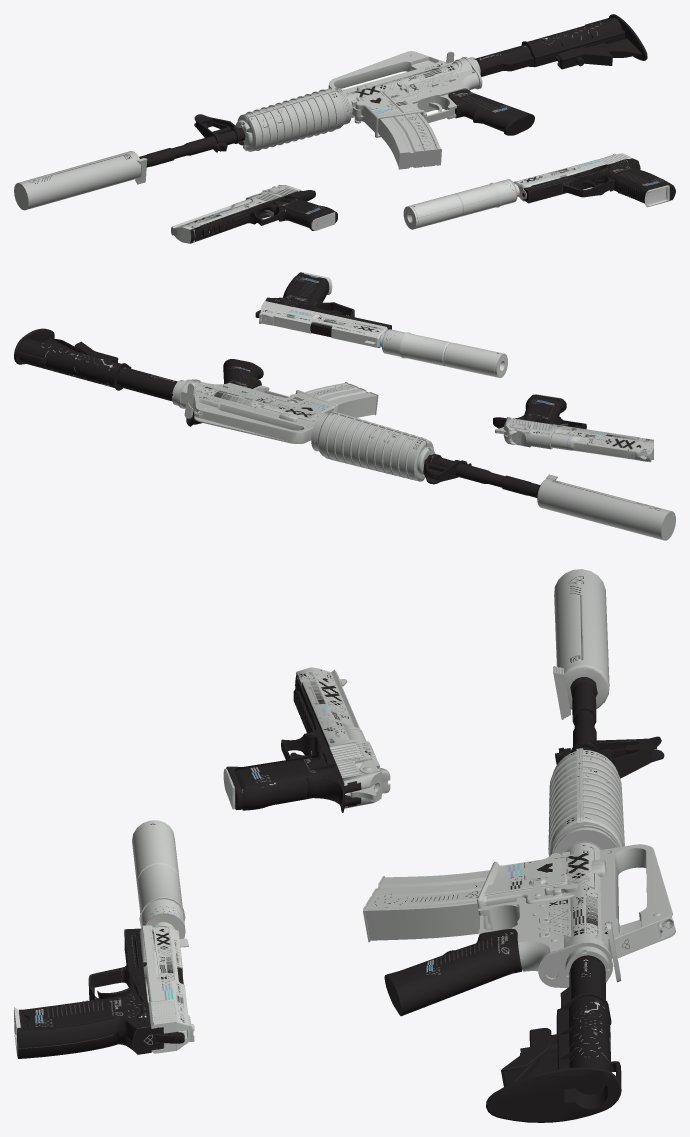
File: armes-printstream.glb
3 views of the same model, one above another, from view 1: azimuth 30°, elevation 25°; view 2: azimuth 150°, elevation 25°; view 3: azimuth 270°, elevation 25° (orthographic). The views are drawn at different scales.
Visible parts, largest first — view 1: m4a1_s_1, usp-s_2, desert_eagle_0; view 2: m4a1_s_1, usp-s_2, desert_eagle_0; view 3: m4a1_s_1, usp-s_2, desert_eagle_0.
Boxes of the visible parts, x1=… form: m4a1_s_1: x1=14, y1=14, x2=647, y2=210; usp-s_2: x1=403, y1=153, x2=675, y2=229; desert_eagle_0: x1=171, y1=184, x2=337, y2=243; m4a1_s_1: x1=14, y1=328, x2=675, y2=540; usp-s_2: x1=255, y1=272, x2=507, y2=377; desert_eagle_0: x1=493, y1=394, x2=653, y2=462; m4a1_s_1: x1=363, y1=569, x2=675, y2=1122; usp-s_2: x1=14, y1=820, x2=194, y2=1058; desert_eagle_0: x1=223, y1=667, x2=390, y2=812.
Size of the model in its own units: 4.75 by 0.3547 by 2.48.
3 materials, 3 textured.
